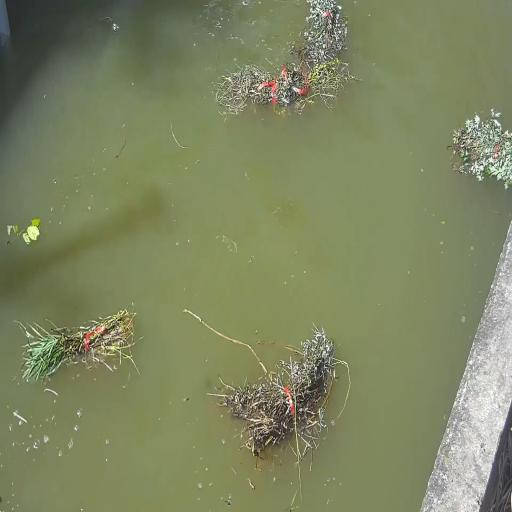twig: (193, 315, 341, 470), (17, 304, 139, 384), (213, 54, 346, 118), (449, 106, 512, 193), (298, 1, 349, 64)
